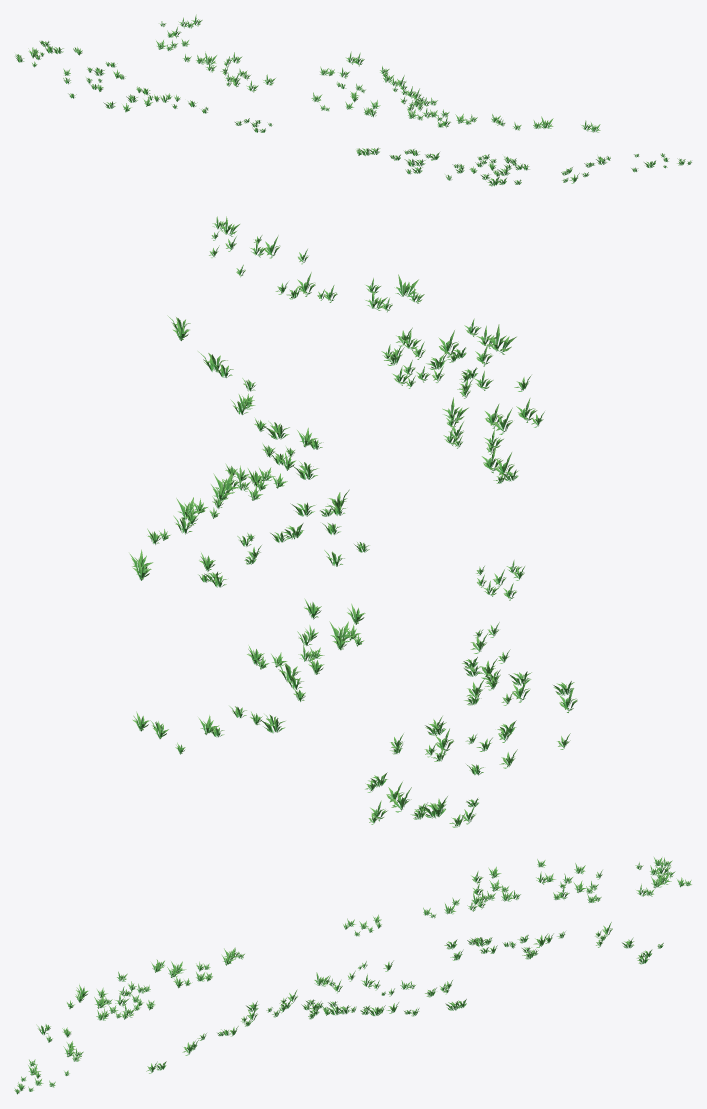
The model's file is Area_09_9.fbx.
3 views of the same model, one above another, from view 1: azimuth 30°, elevation 25°; view 2: azimuth 150°, elevation 25°; view 3: azimuth 270°, elevation 25° (orthographic). The views are drawn at different scales.
Parts seen in each view (by area): view 1: Area_09_9; view 2: Area_09_9; view 3: Area_09_9.
Boxes of the visible parts, left/top/right/bottom form: Area_09_9: left=15, top=14, right=691, bottom=186; Area_09_9: left=129, top=216, right=577, bottom=827; Area_09_9: left=14, top=857, right=691, bottom=1094.
Bounding box in the file's own units: 4252 × 118 × 5256.
